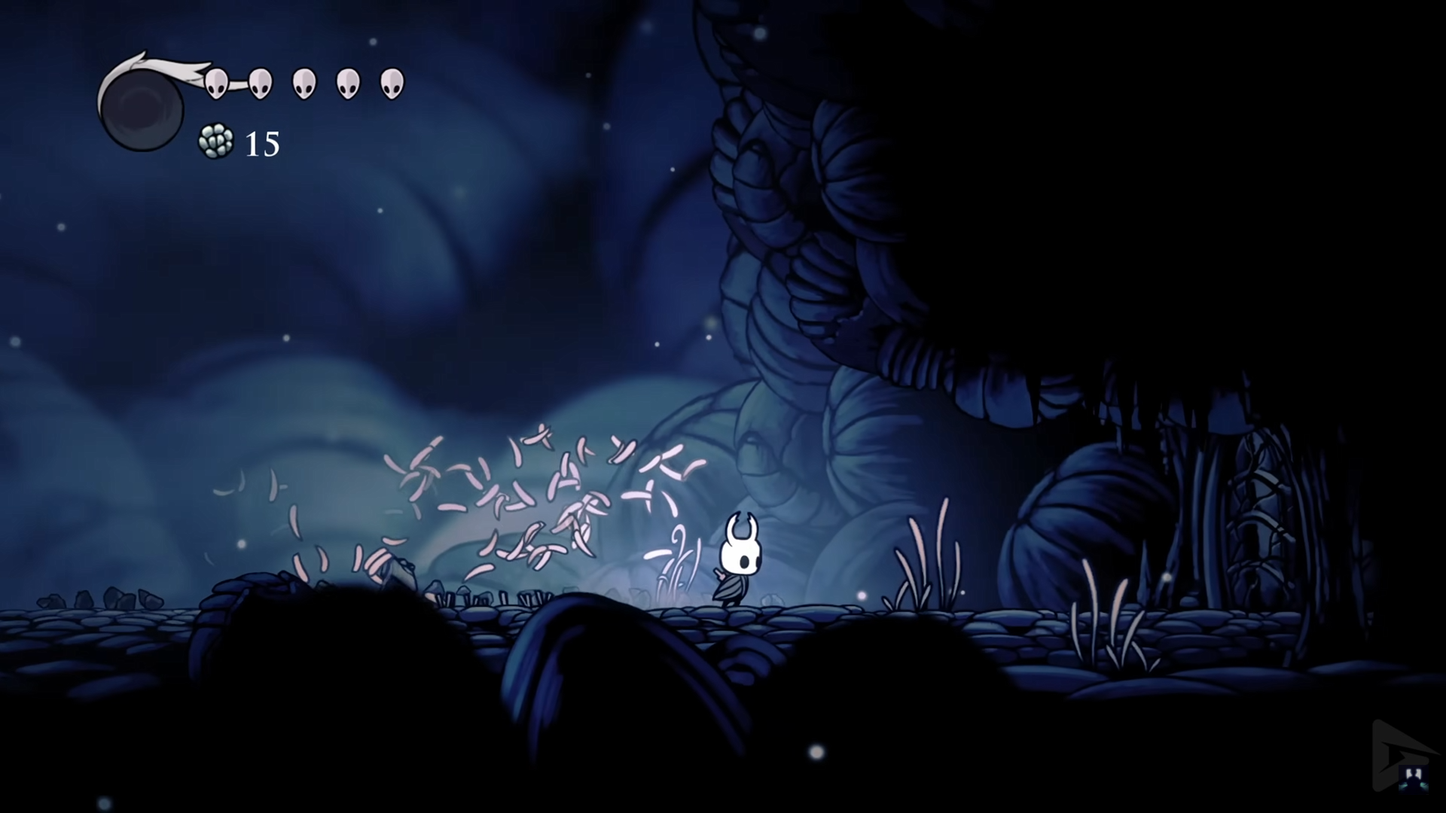HK: (710, 508, 767, 612)
